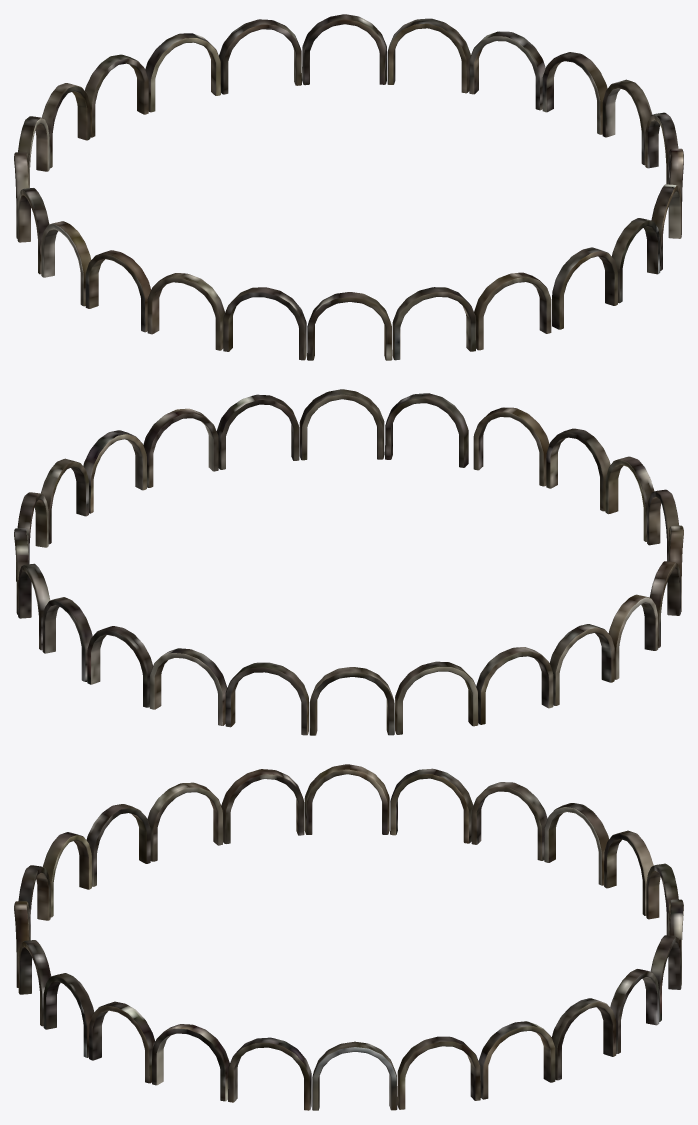
File: Castle Walls.fbx
The picture shows the model from 3 angles, top to bottom: view 1: azimuth 30°, elevation 25°; view 2: azimuth 150°, elevation 25°; view 3: azimuth 270°, elevation 25°; orthographic projection.
Parts seen in each view (by area): view 1: Circle.008; view 2: Circle.008; view 3: Circle.008.
Part boxes in pixels (box(x1,y1,x2,y2)): Circle.008: box(14, 14, 683, 360); Circle.008: box(14, 389, 683, 735); Circle.008: box(14, 764, 683, 1110).
Size of the model in its own units: 1141 by 122 by 1141.
